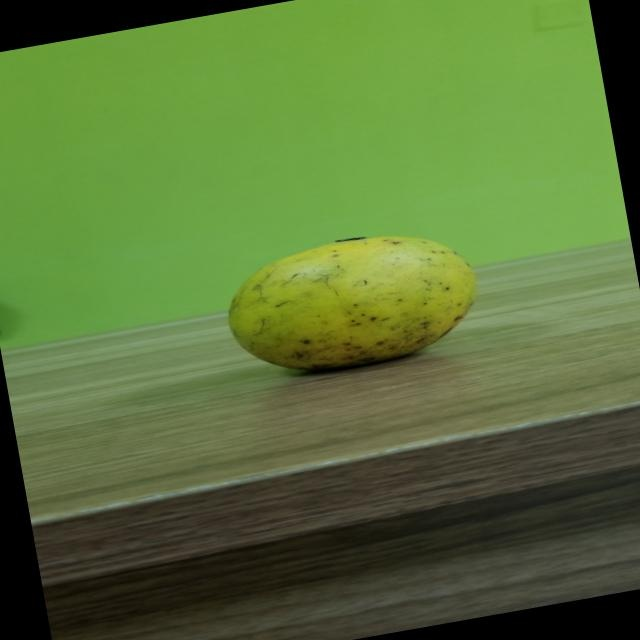agrume: (195, 200, 511, 400)
